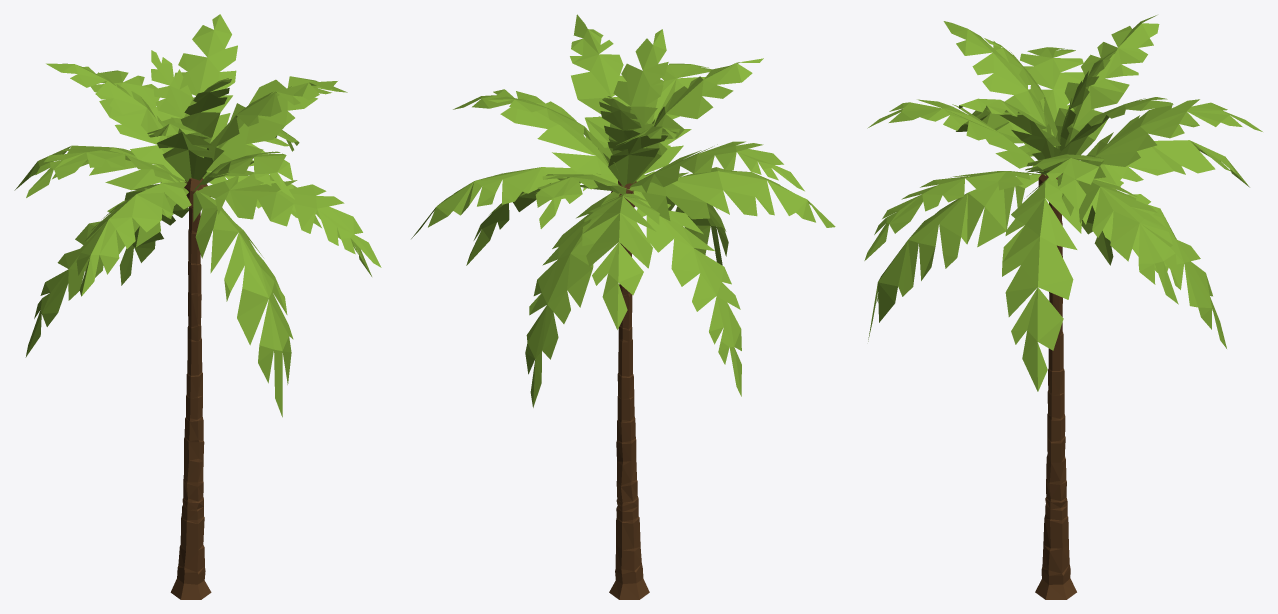
File: SM_Tree_Palm_Mature_A.fbx
The picture shows the model from 3 angles, left to right: view 1: azimuth 30°, elevation 25°; view 2: azimuth 150°, elevation 25°; view 3: azimuth 270°, elevation 25°; orthographic projection. The views are drawn at different scales.
Parts seen in each view (by area): view 1: tree-palm-mature-a; view 2: tree-palm-mature-a; view 3: tree-palm-mature-a.
Part boxes in pixels (x1,y1,x2,y2): tree-palm-mature-a: (14,14,381,599); tree-palm-mature-a: (411,14,835,599); tree-palm-mature-a: (864,15,1262,599).
Size of the model in its own units: 5.79 by 8.69 by 5.66.
